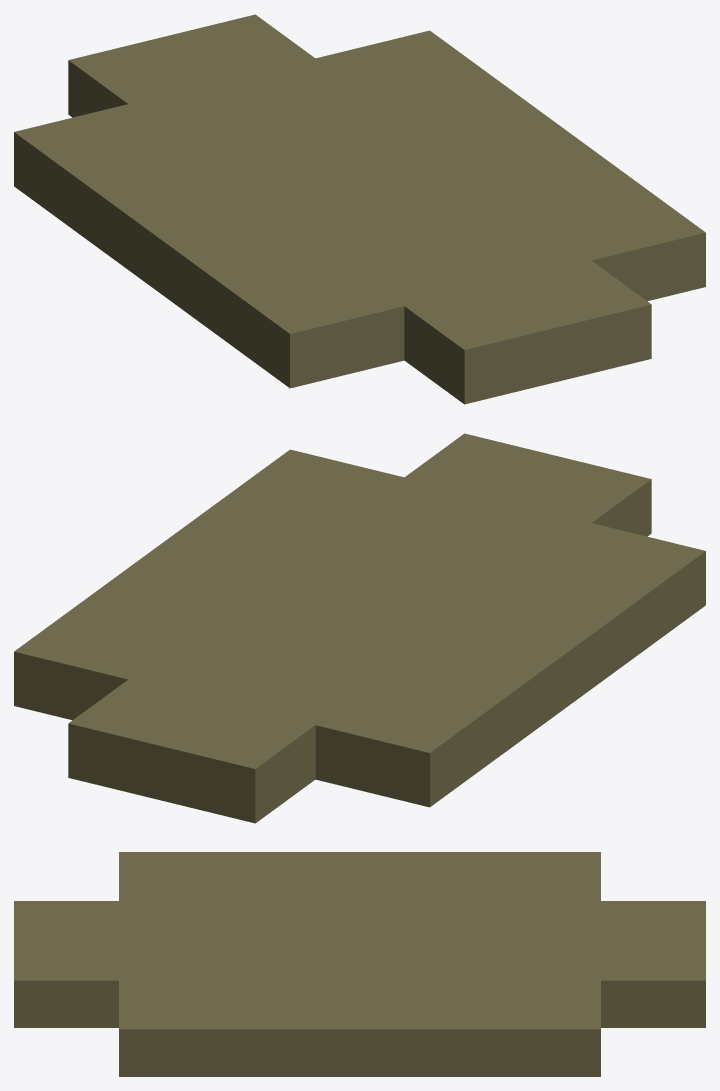
The model's file is cargo_pants.glb.
3 renders of one model, top to bottom at view 1: azimuth 30°, elevation 25°; view 2: azimuth 150°, elevation 25°; view 3: azimuth 270°, elevation 25°, orthographic. The views are drawn at different scales.
Parts seen in each view (by area): view 1: cargo_pants:folded-garment; view 2: cargo_pants:folded-garment; view 3: cargo_pants:folded-garment.
Part boxes in pixels (box(x1,y1,x2,y2)): cargo_pants:folded-garment: box(14, 14, 705, 404); cargo_pants:folded-garment: box(14, 433, 705, 823); cargo_pants:folded-garment: box(14, 852, 705, 1076).
Size of the model in its own units: 0.4 by 0.05 by 0.66.
